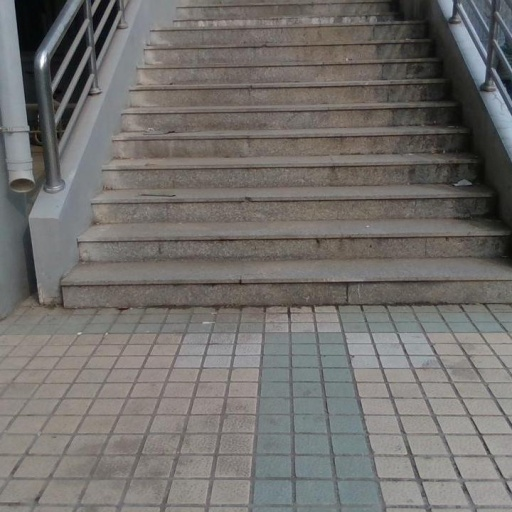Stairs: (62, 0, 512, 307)
